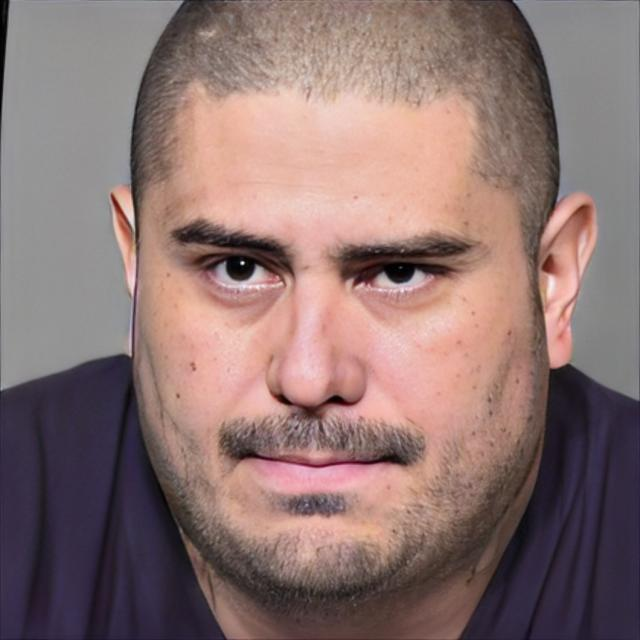anger: (137, 62, 542, 616)
